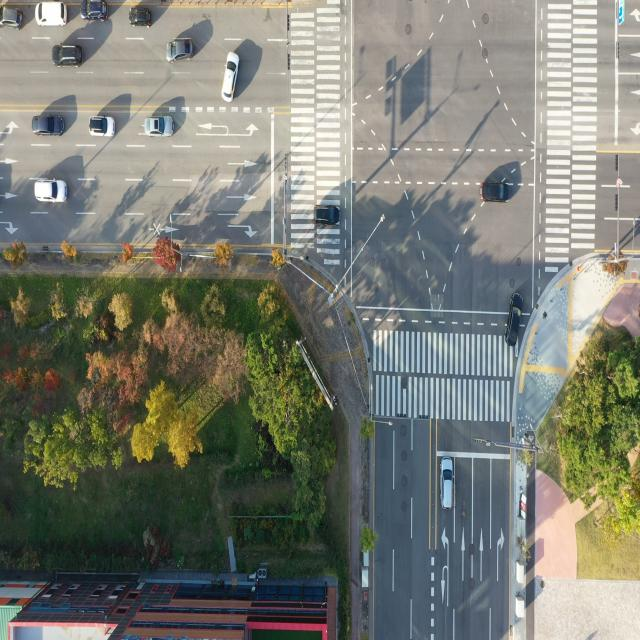car: (504, 286, 526, 350), (34, 0, 68, 30), (222, 49, 240, 103), (166, 36, 196, 64), (36, 179, 68, 204), (126, 3, 156, 29), (442, 458, 456, 512), (54, 42, 83, 68), (478, 180, 512, 202), (144, 114, 175, 138), (33, 114, 66, 136), (82, 0, 110, 25), (0, 0, 23, 29), (88, 117, 117, 139), (314, 205, 340, 226)
